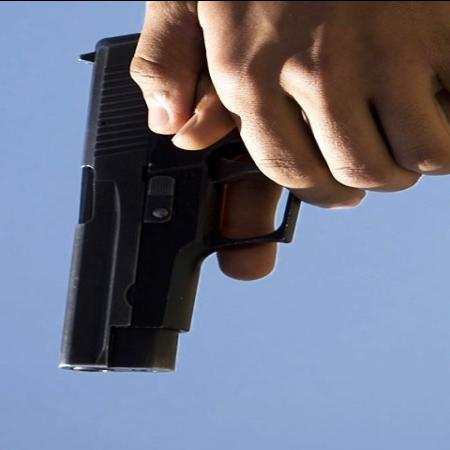Pistol: (45, 29, 435, 370)
